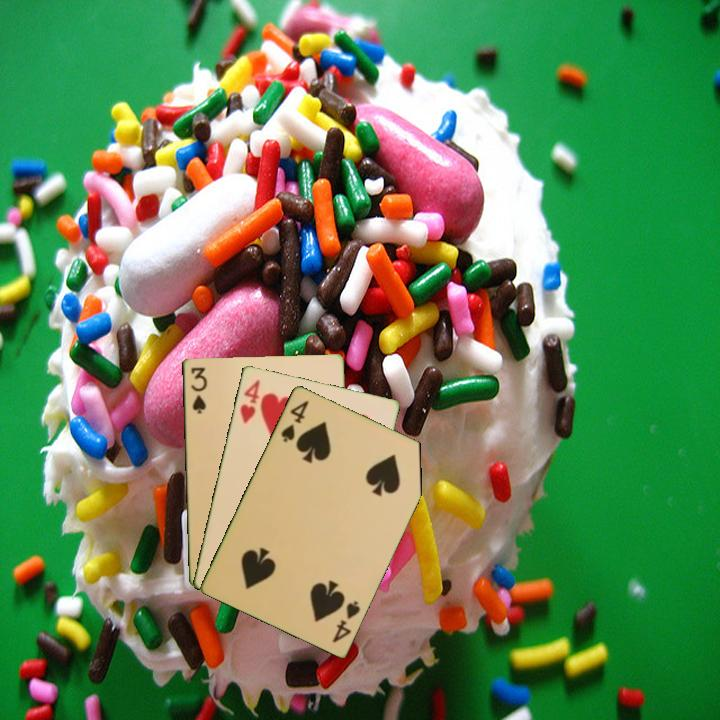3s: (187, 363, 209, 416)
4h: (236, 376, 262, 426)
4s: (277, 396, 311, 445), (329, 597, 363, 645)
